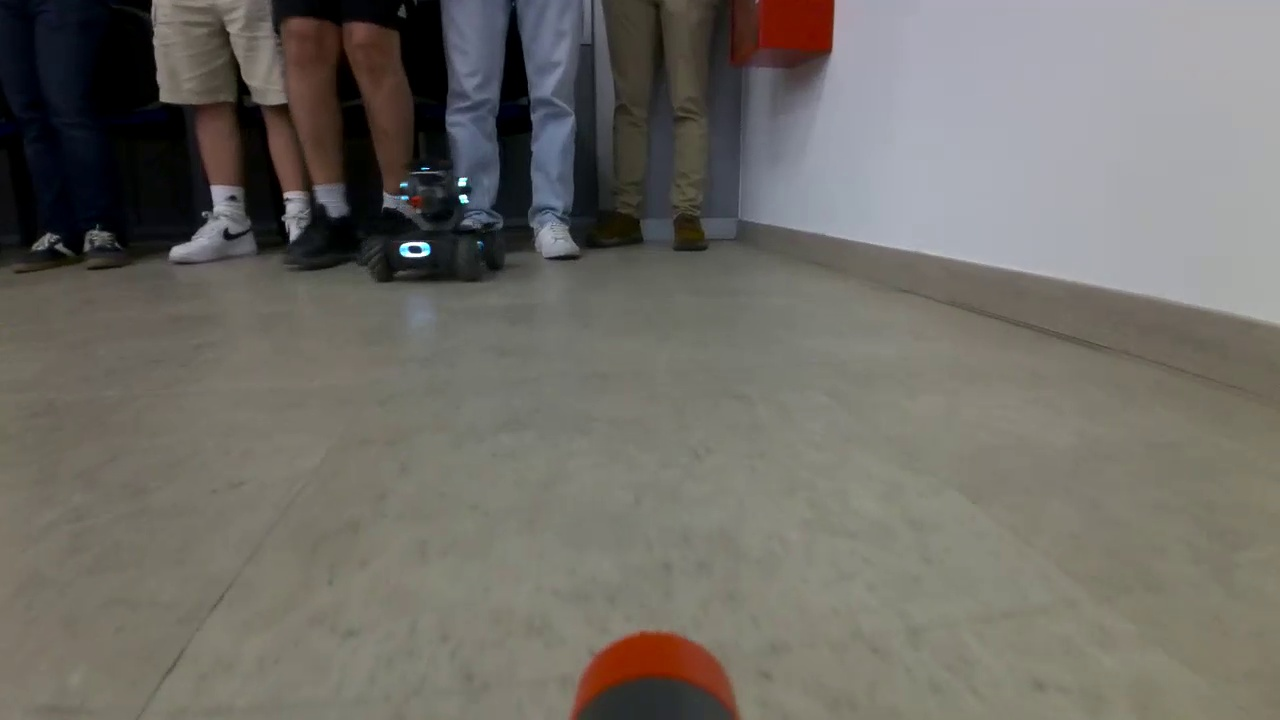robot: (358, 165, 524, 298)
